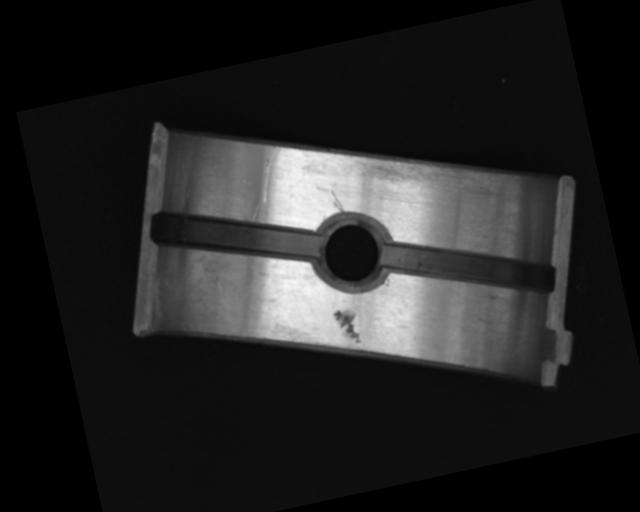bruise: (332, 305, 363, 348)
gap: (382, 211, 557, 324), (148, 181, 322, 289)
hole: (305, 204, 395, 295)
nick: (250, 144, 291, 205), (329, 188, 345, 215)
scratch: (359, 128, 508, 213)
